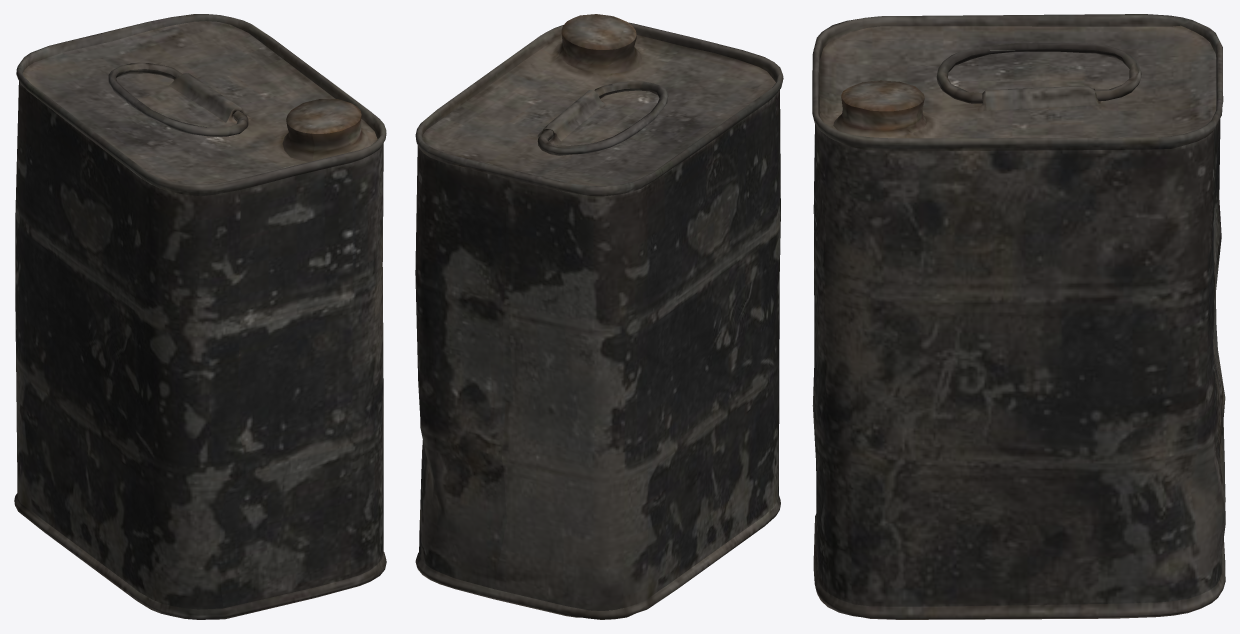
The model's file is oil_tin.glb.
The picture shows the model from 3 angles, left to right: view 1: azimuth 30°, elevation 25°; view 2: azimuth 150°, elevation 25°; view 3: azimuth 270°, elevation 25°; orthographic projection. The views are drawn at different scales.
Visible parts, largest first — view 1: oil_tin, oil_tin_handle; view 2: oil_tin, oil_tin_handle; view 3: oil_tin, oil_tin_handle.
Part boxes in pixels (x1,y1,x2,y2): oil_tin: (14, 14, 386, 619); oil_tin_handle: (108, 63, 248, 137); oil_tin: (415, 14, 783, 619); oil_tin_handle: (537, 81, 668, 155); oil_tin: (812, 14, 1225, 619); oil_tin_handle: (936, 43, 1141, 103).
Bounding box in the file's own units: 0.1147 × 0.2054 × 0.1535.
1 material, 1 textured.
